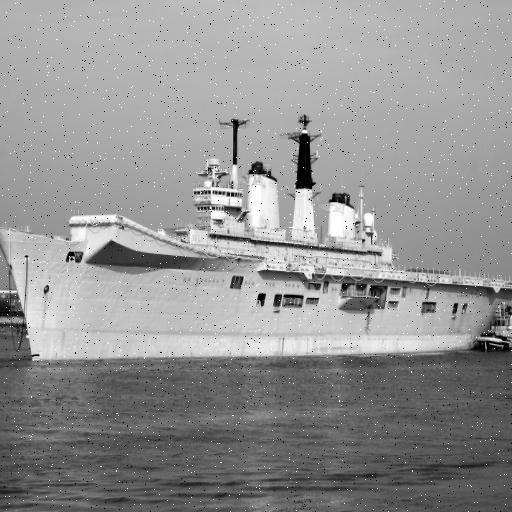Portanaves: (1, 105, 512, 369)
